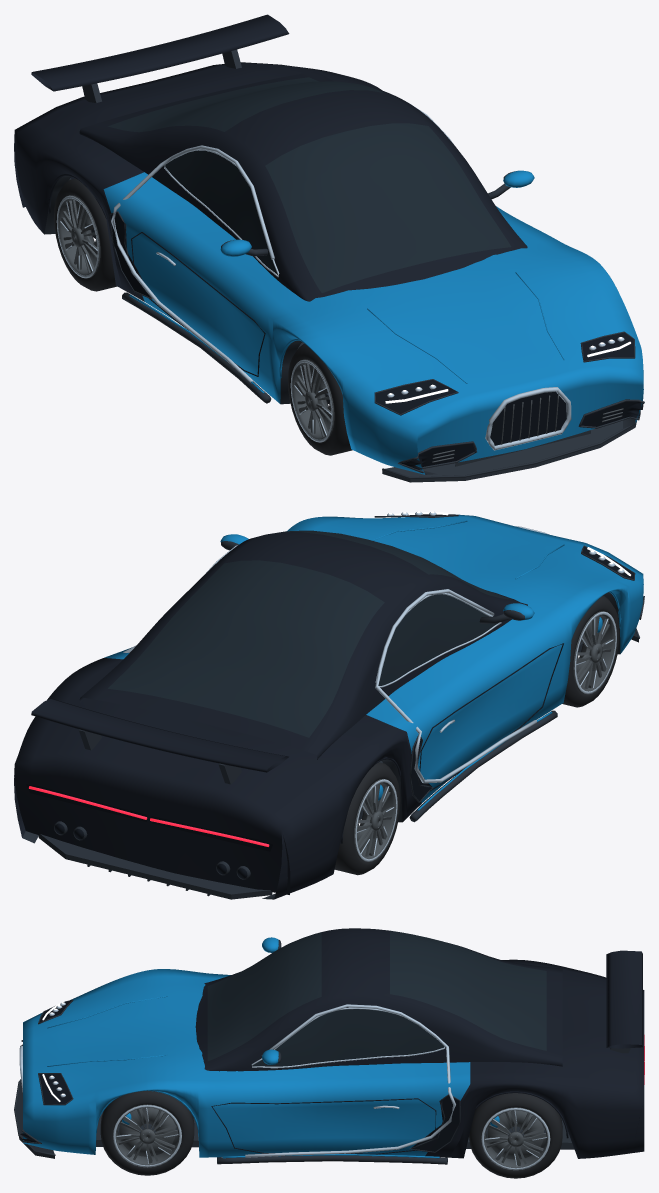
Rendered from Bugatti.glb.
3 views of the same model, one above another, from view 1: azimuth 30°, elevation 25°; view 2: azimuth 150°, elevation 25°; view 3: azimuth 270°, elevation 25° (orthographic). The views are drawn at different scales.
Visible parts, largest first — view 1: Bugatti_Body, Wheel_Rear_L, Wheel_Front_L; view 2: Bugatti_Body, Wheel_Rear_L, Wheel_Front_L; view 3: Bugatti_Body, Wheel_Rear_R, Wheel_Front_R.
Part boxes in pixels (box(x1,y1,x2,y2)): Bugatti_Body: box(14, 14, 644, 482); Wheel_Rear_L: box(54, 178, 116, 291); Wheel_Front_L: box(288, 344, 352, 455); Bugatti_Body: box(14, 511, 644, 899); Wheel_Rear_L: box(334, 762, 400, 875); Wheel_Front_L: box(562, 595, 619, 707); Bugatti_Body: box(14, 928, 644, 1164); Wheel_Rear_R: box(469, 1093, 562, 1178); Wheel_Front_R: box(100, 1090, 194, 1175).
Bounding box in the file's own units: 2.19 × 1.44 × 4.71.
